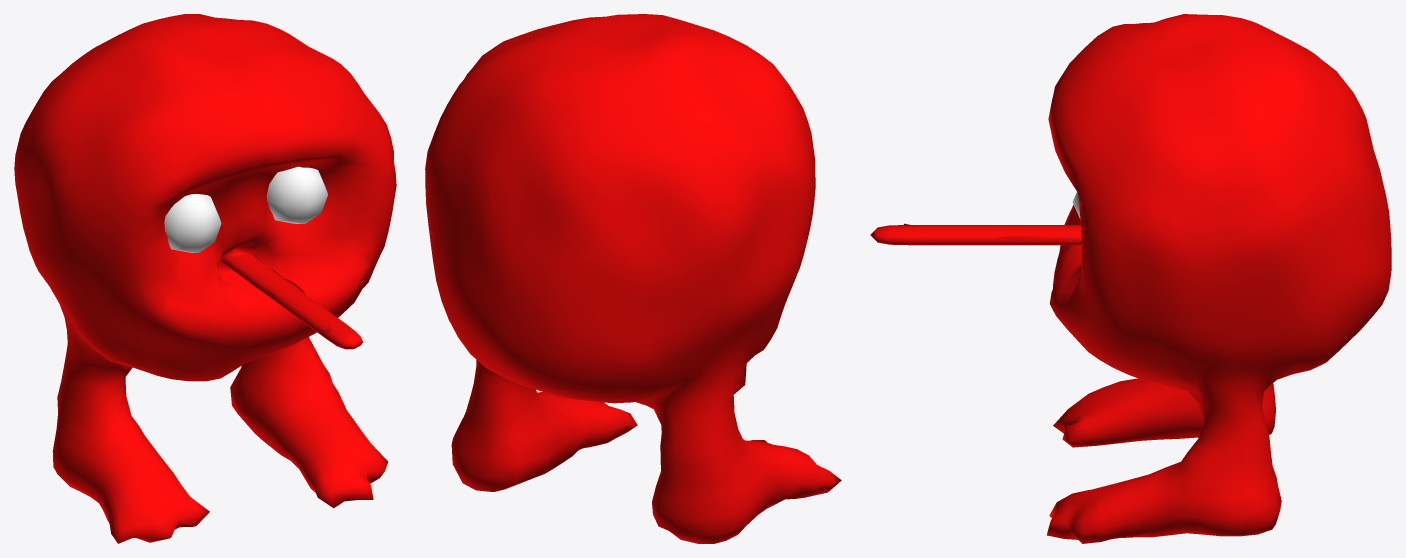
Rendered from amongusguy.glb.
The picture shows the model from 3 angles, left to right: view 1: azimuth 30°, elevation 25°; view 2: azimuth 150°, elevation 25°; view 3: azimuth 270°, elevation 25°; orthographic projection. The views are drawn at different scales.
Visible parts, largest first — view 1: Cube, Cube.001, Sphere, Sphere.001; view 2: Cube; view 3: Cube, Cube.001.
Part boxes in pixels (<box>): Cube: <box>14,14,396,543</box>; Cube.001: <box>221,254,363,349</box>; Sphere: <box>266,166,327,223</box>; Sphere.001: <box>164,194,221,252</box>; Cube: <box>425,14,841,543</box>; Cube: <box>894,14,1391,543</box>; Cube.001: <box>870,225,1081,245</box>.
Size of the model in its own units: 3.31 by 4.31 by 4.49.
2 materials, 2 textured.
